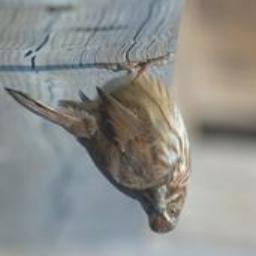Sparrow: (4, 54, 192, 234)
